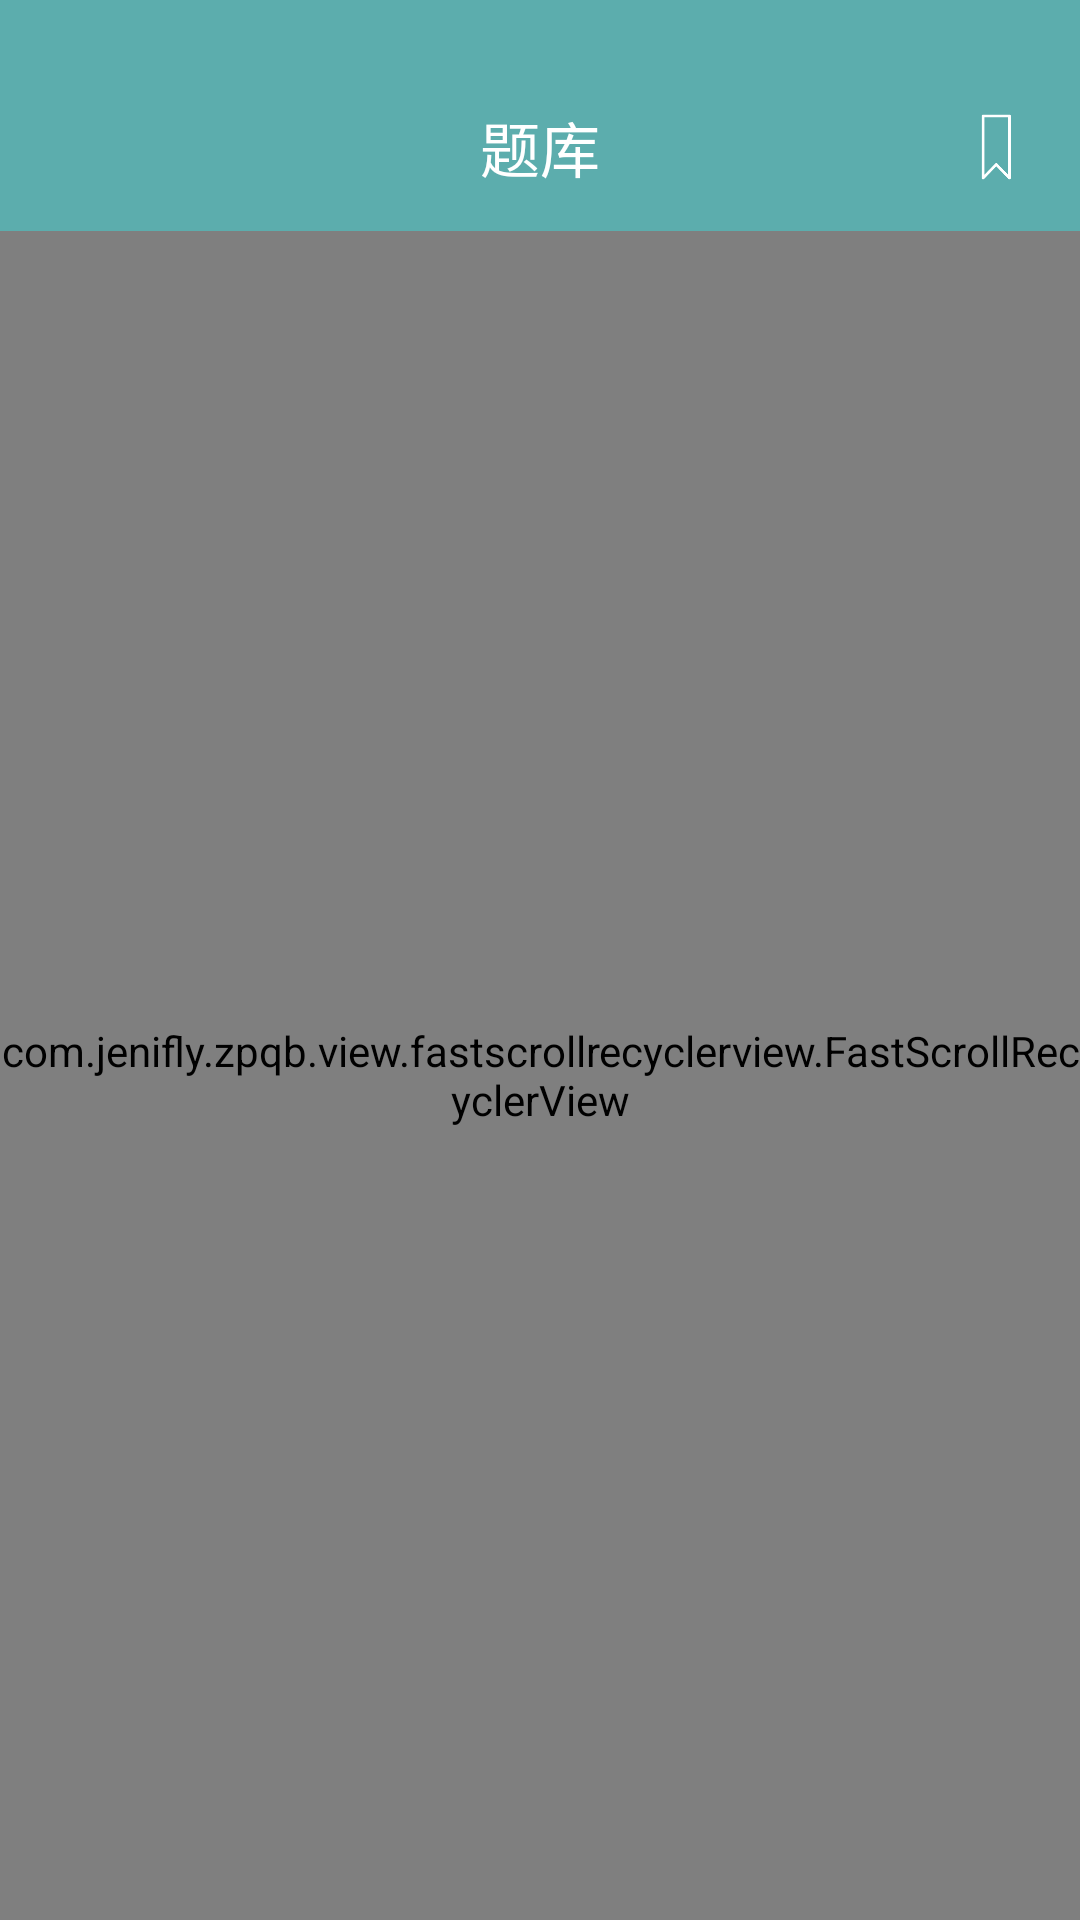

Where to tap for icons on this 1080 × 1920 app screen, as (x,y):
bookmarks: (996,147)
